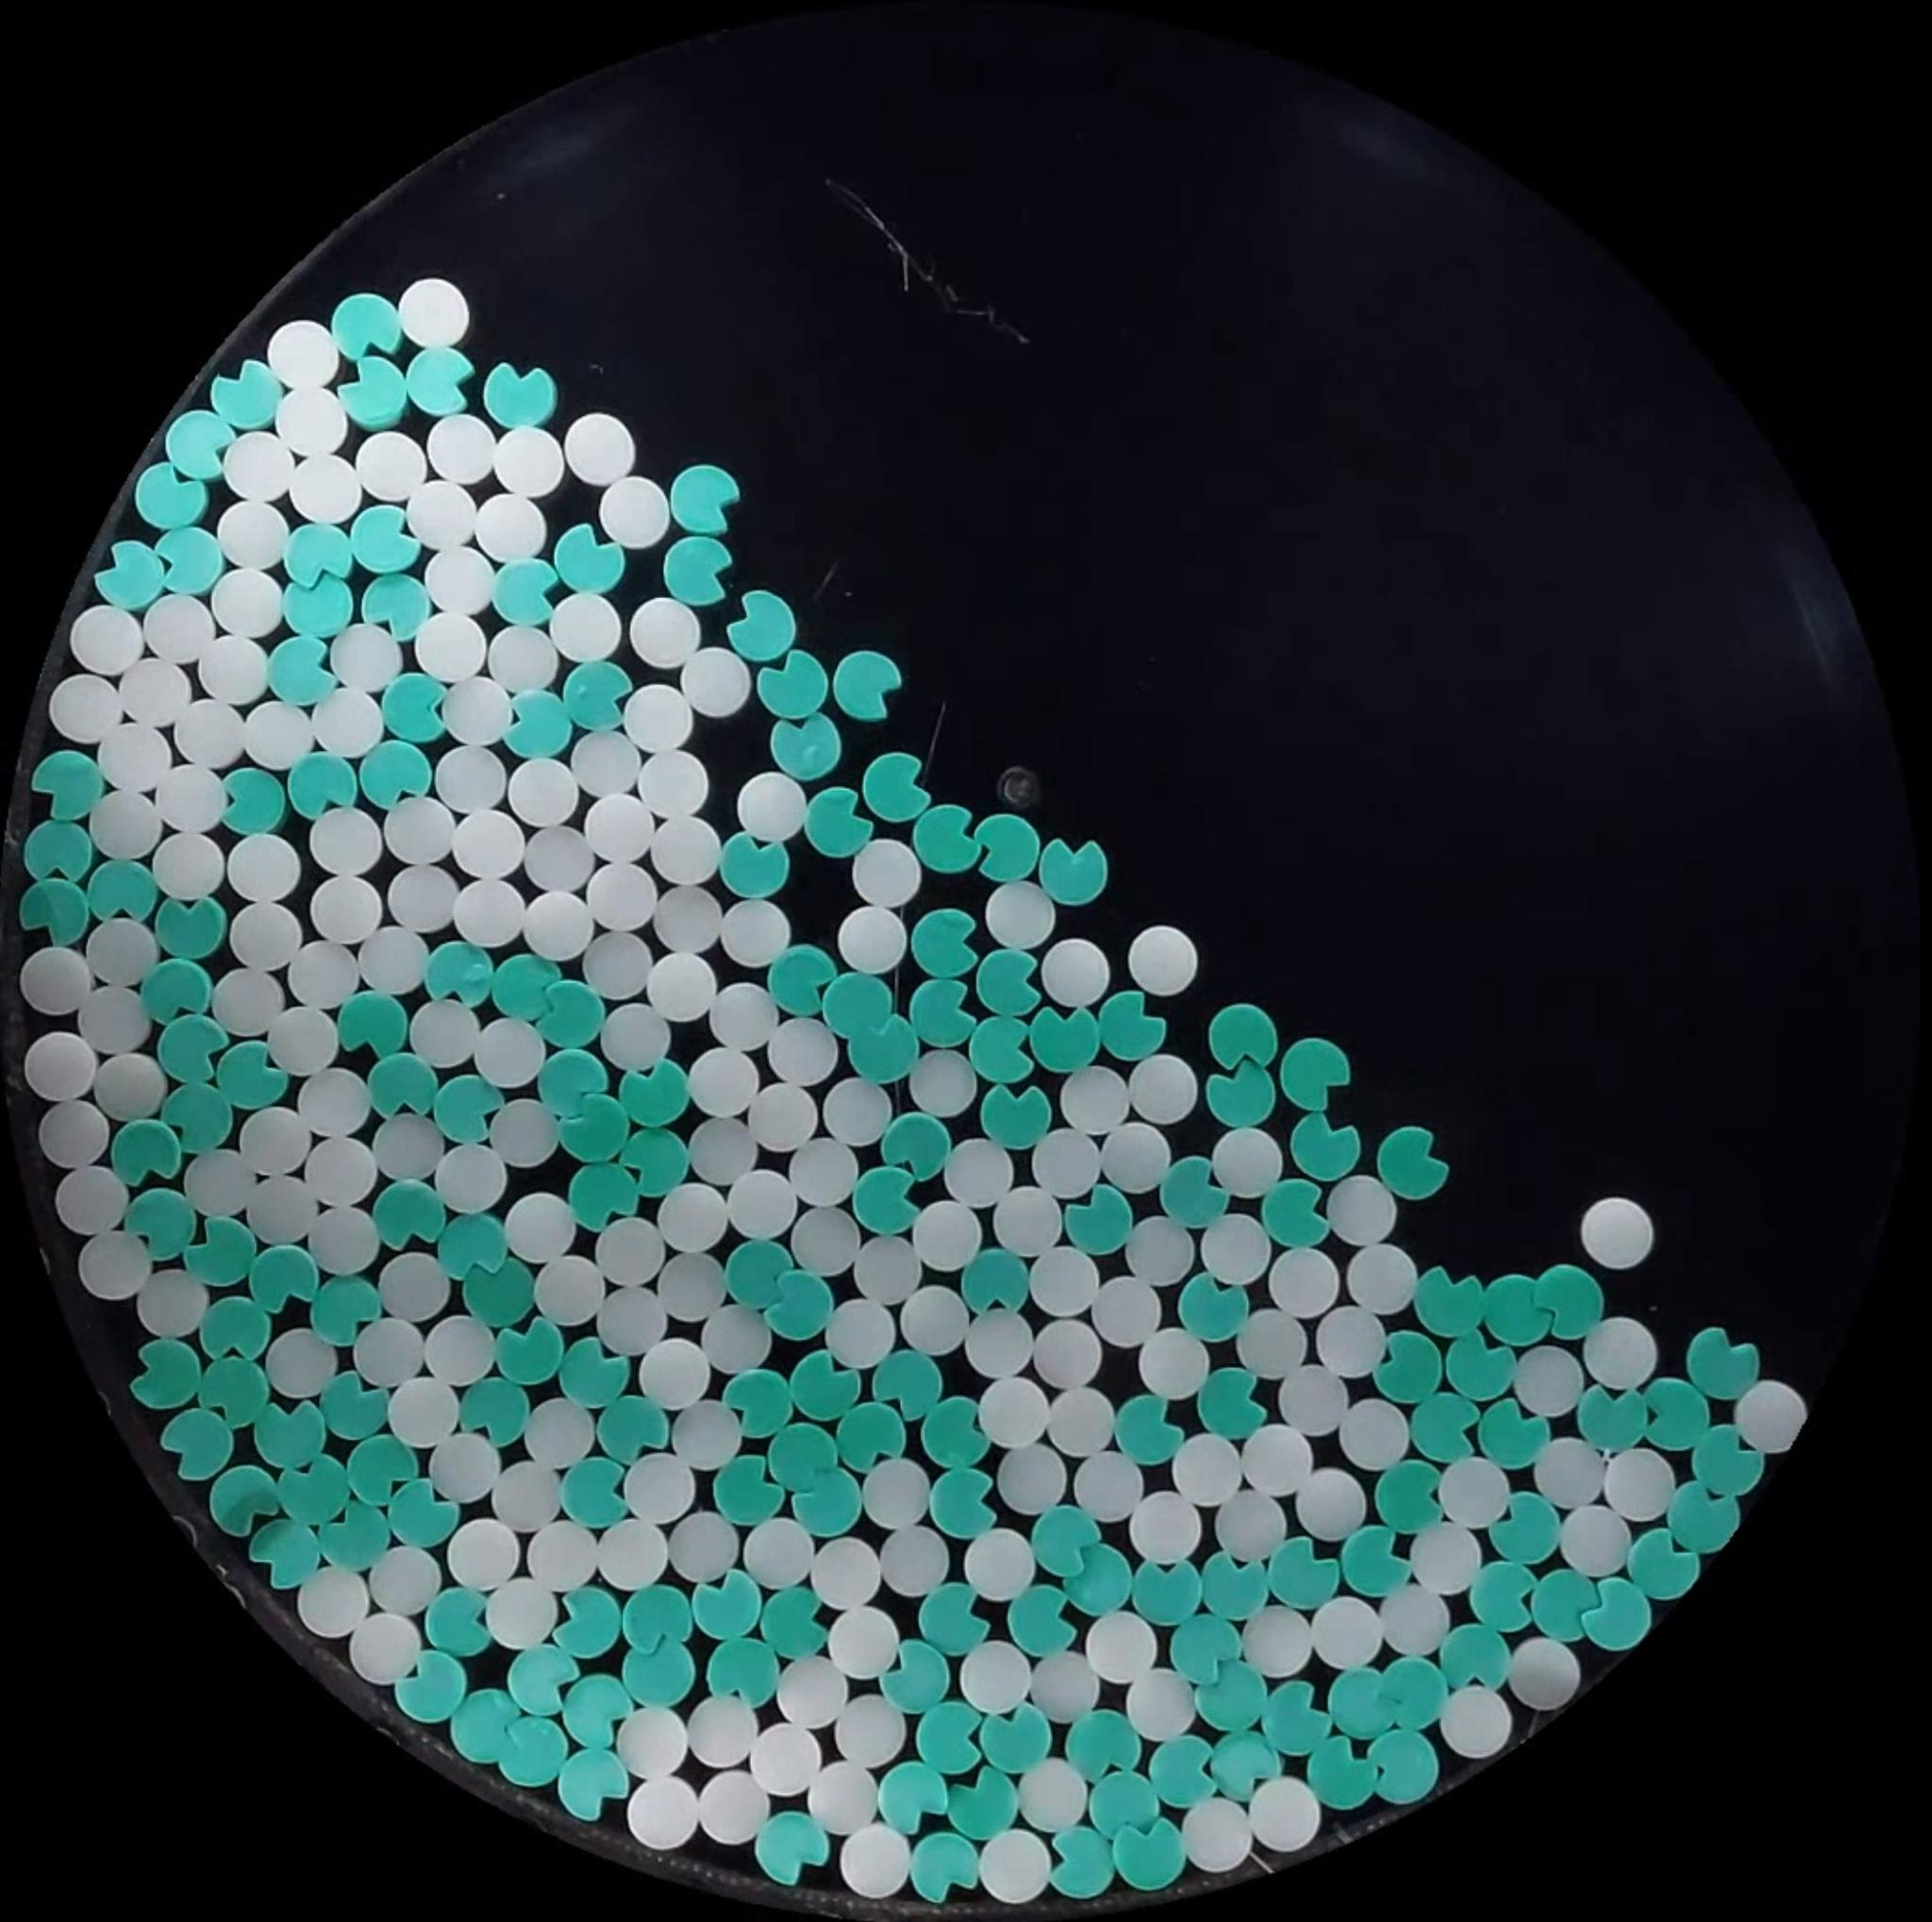disco-pmma: (429, 730, 510, 815), (1024, 1313, 1110, 1390), (500, 1186, 582, 1265), (417, 1315, 500, 1394), (366, 1111, 450, 1188), (1313, 1290, 1387, 1376), (625, 1772, 704, 1852), (992, 1438, 1072, 1517), (760, 1016, 841, 1093), (528, 1250, 609, 1327), (787, 1200, 869, 1276), (477, 1577, 560, 1651), (697, 1308, 781, 1380), (772, 1653, 850, 1730), (1309, 1593, 1387, 1670), (53, 1163, 130, 1241), (1246, 1774, 1321, 1853), (875, 1519, 954, 1595), (655, 1179, 730, 1258), (588, 1285, 670, 1357), (238, 1176, 320, 1248), (808, 1537, 883, 1614), (806, 1760, 882, 1838), (1084, 1609, 1160, 1686), (19, 945, 97, 1021), (1406, 1519, 1482, 1596), (23, 1028, 100, 1104), (67, 602, 144, 678), (450, 875, 530, 949), (489, 424, 568, 498), (352, 1313, 431, 1387), (90, 720, 172, 790), (377, 1248, 452, 1324), (686, 1695, 762, 1771), (1378, 1579, 1453, 1654), (586, 857, 662, 933), (1557, 1501, 1633, 1577), (447, 1515, 523, 1591), (1239, 1603, 1314, 1679), (977, 1829, 1052, 1904), (1170, 1433, 1244, 1510), (1580, 1317, 1658, 1390), (684, 1044, 762, 1118), (303, 1133, 380, 1207), (1731, 1378, 1809, 1452), (1438, 1684, 1515, 1758), (273, 384, 350, 458), (750, 1720, 823, 1797), (88, 787, 165, 861), (347, 1610, 424, 1684), (151, 760, 229, 834), (519, 887, 596, 961), (172, 697, 250, 771), (151, 827, 229, 901), (213, 498, 290, 572), (1504, 1635, 1582, 1709), (790, 1135, 867, 1209), (223, 833, 303, 905), (352, 919, 431, 991), (1438, 1454, 1513, 1528), (978, 1373, 1054, 1447), (385, 1373, 461, 1447), (621, 1452, 697, 1526), (428, 1427, 501, 1503), (959, 1640, 1035, 1714), (616, 1704, 690, 1779), (832, 1693, 906, 1769), (132, 1265, 208, 1339), (593, 1517, 669, 1591), (523, 824, 598, 898), (1603, 1447, 1677, 1522), (296, 1565, 371, 1639), (413, 609, 489, 683), (310, 685, 385, 759), (368, 1544, 442, 1619), (839, 1822, 913, 1897), (1181, 1797, 1255, 1873), (1580, 1195, 1656, 1269), (260, 998, 336, 1072), (1274, 1250, 1348, 1325), (90, 1049, 167, 1121), (141, 593, 218, 665), (1045, 1383, 1117, 1461), (744, 1084, 825, 1153), (472, 1016, 553, 1084), (598, 473, 672, 547), (644, 949, 718, 1023), (435, 1141, 509, 1214), (962, 1526, 1036, 1600), (1533, 1438, 1606, 1512), (665, 1510, 739, 1584), (310, 873, 385, 945), (450, 806, 526, 878), (84, 917, 160, 989), (584, 790, 660, 862), (209, 567, 285, 639), (1292, 1466, 1367, 1538), (628, 595, 704, 667), (646, 810, 721, 882), (405, 479, 480, 551), (222, 431, 297, 503), (727, 1165, 799, 1241), (229, 894, 304, 966), (236, 1102, 308, 1177), (523, 1507, 595, 1582), (743, 1514, 815, 1589), (239, 699, 317, 769), (114, 660, 194, 729), (890, 1278, 970, 1346), (304, 1209, 384, 1278), (836, 905, 910, 977), (1128, 1491, 1202, 1563), (1124, 1665, 1197, 1739), (473, 489, 547, 561), (1511, 1345, 1584, 1419), (487, 1097, 561, 1169), (354, 429, 428, 502), (1017, 1757, 1089, 1830), (563, 412, 637, 484), (695, 1769, 767, 1843), (287, 452, 361, 525), (579, 926, 653, 998), (1123, 1218, 1197, 1290), (76, 1232, 151, 1302), (718, 898, 794, 968), (989, 1185, 1065, 1255), (683, 1119, 760, 1188), (591, 1216, 669, 1285), (1281, 1357, 1350, 1434), (1240, 1424, 1313, 1496), (440, 674, 512, 746), (623, 681, 695, 753), (681, 646, 753, 718), (1339, 1397, 1411, 1470), (424, 544, 496, 616), (910, 1045, 982, 1118), (832, 1609, 904, 1681), (310, 806, 384, 877), (387, 861, 461, 931), (549, 591, 623, 662), (985, 880, 1059, 950), (329, 623, 403, 693), (737, 771, 811, 841), (79, 982, 150, 1056), (35, 1100, 109, 1170), (179, 1149, 253, 1220), (850, 1230, 926, 1299), (299, 1070, 375, 1139), (1205, 1213, 1274, 1288), (1028, 1130, 1105, 1197), (507, 757, 579, 827), (486, 623, 558, 693), (1128, 924, 1198, 996), (426, 412, 498, 482), (1040, 936, 1112, 1007), (48, 674, 120, 745), (667, 1403, 739, 1473), (1330, 1176, 1401, 1248), (1084, 1276, 1158, 1345), (945, 1137, 1021, 1204), (1056, 1063, 1131, 1130), (1131, 1324, 1207, 1390), (1128, 1053, 1198, 1123), (570, 729, 642, 797), (398, 278, 470, 347), (267, 319, 340, 387), (1209, 1491, 1281, 1559), (1353, 1243, 1418, 1318), (852, 840, 922, 908), (382, 794, 450, 864), (653, 884, 723, 952), (706, 979, 776, 1047), (911, 1197, 980, 1267), (964, 1308, 1036, 1375), (201, 635, 274, 701), (412, 996, 477, 1070), (820, 1075, 890, 1142), (1029, 1248, 1100, 1315), (1244, 1306, 1311, 1376), (640, 752, 709, 818), (1105, 1119, 1172, 1188), (1211, 1128, 1283, 1192), (493, 1461, 560, 1528), (642, 1343, 711, 1408), (609, 1000, 674, 1068), (269, 1327, 334, 1396), (660, 1251, 725, 1320), (292, 938, 362, 1001), (528, 1399, 595, 1464), (873, 1459, 936, 1528), (1077, 1452, 1140, 1519), (222, 970, 289, 1033), (823, 1297, 890, 1359)
